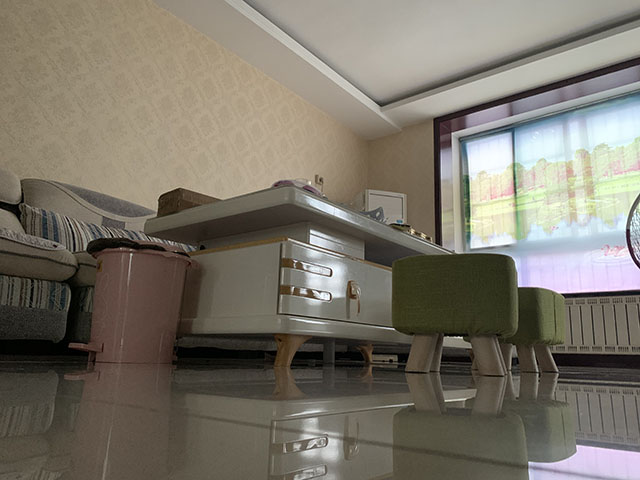sofa: (1, 169, 157, 347)
stool: (390, 252, 519, 377), (469, 285, 568, 374)
table: (141, 183, 458, 369)
trashcan: (66, 237, 197, 365)
